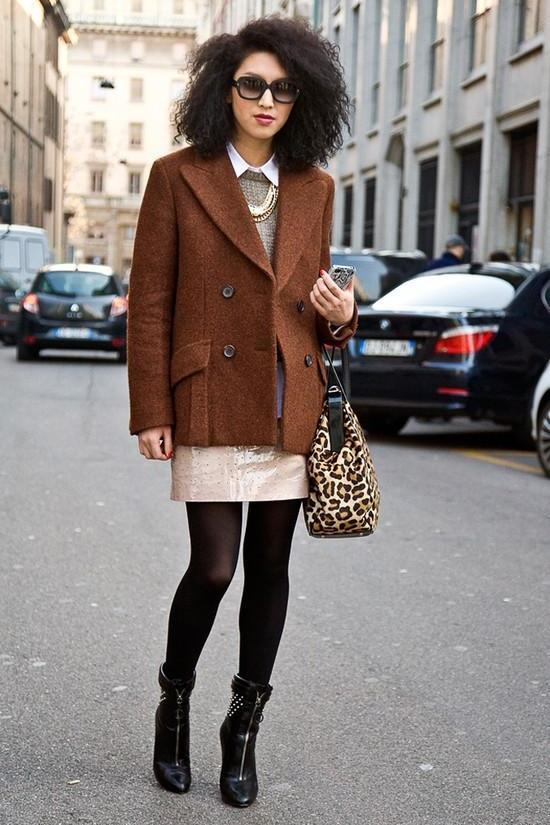sweater: (126, 145, 356, 455)
